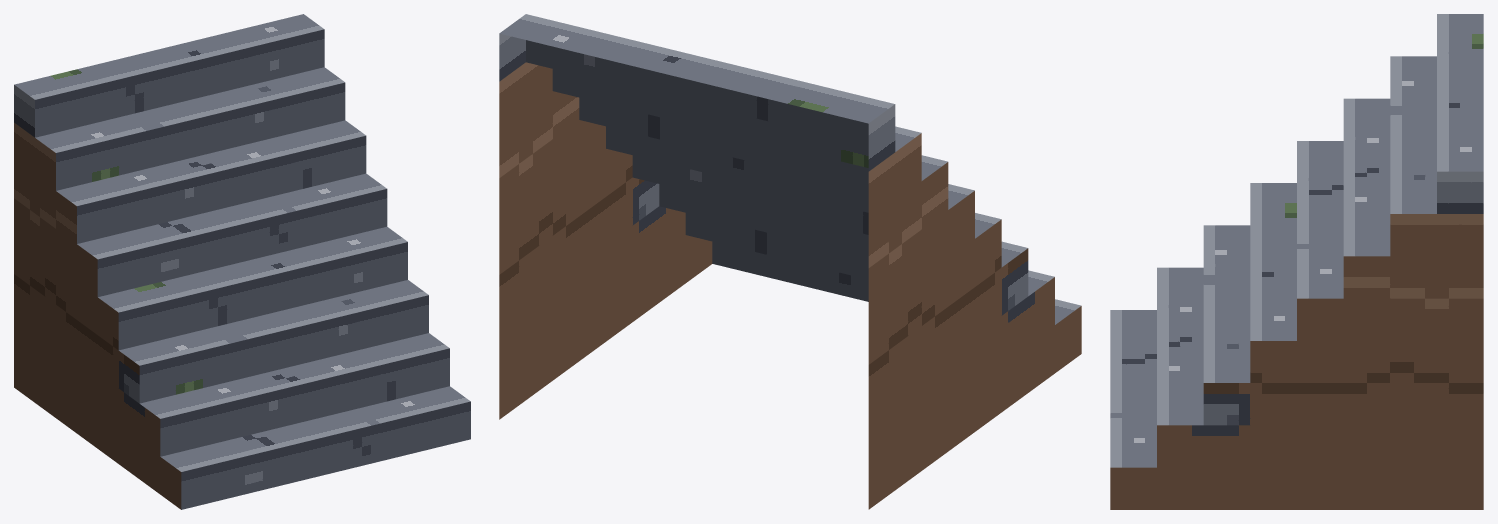
Rendered from stair_top_left.glb.
3 views of the same model, side by side, from view 1: azimuth 30°, elevation 25°; view 2: azimuth 150°, elevation 25°; view 3: azimuth 270°, elevation 25° (orthographic). The views are drawn at different scales.
Visible parts, largest first — view 1: stair_top_left; view 2: stair_top_left; view 3: stair_top_left.
Part boxes in pixels (x1=…): stair_top_left: x1=14, y1=14, x2=470, y2=509; stair_top_left: x1=499, y1=14, x2=1081, y2=509; stair_top_left: x1=1110, y1=14, x2=1483, y2=509.
Size of the model in its own units: 2 by 2 by 2.
1 material, 1 textured.
